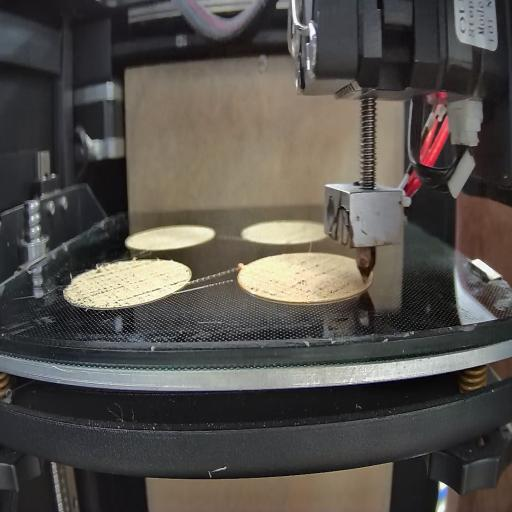under_extrusion: (73, 269, 163, 307), (247, 274, 348, 306), (166, 277, 191, 292)
